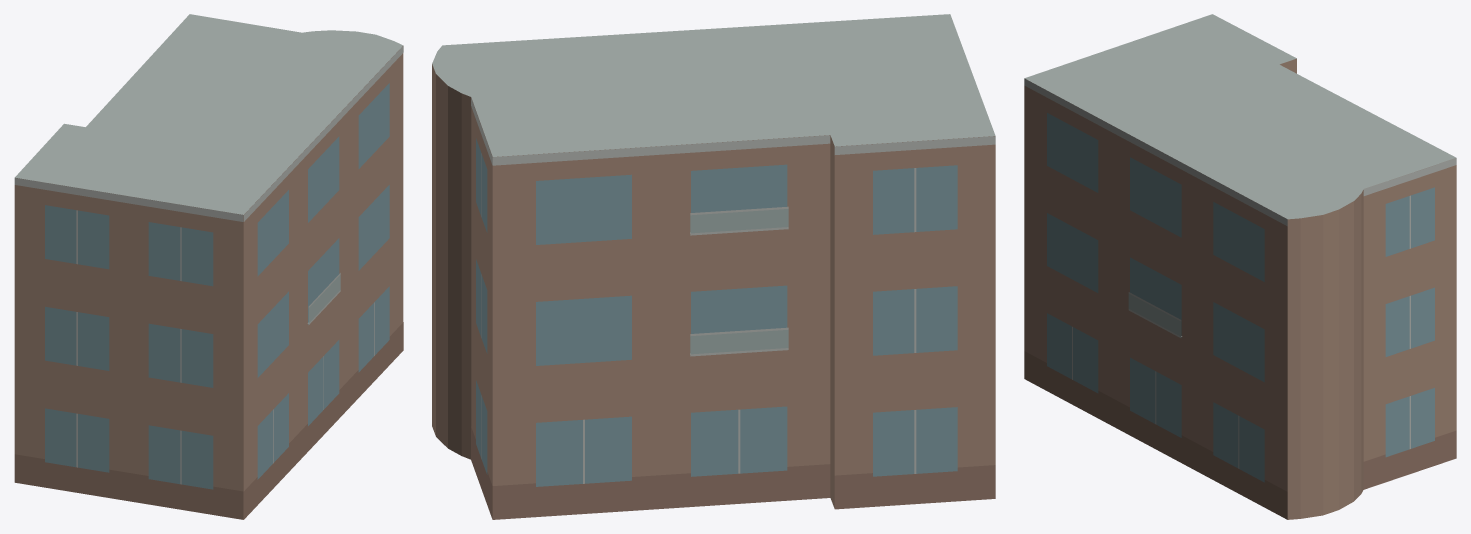
Rendered from survey-upis-32764109.glb.
3 views of the same model, side by side, from view 1: azimuth 30°, elevation 25°; view 2: azimuth 150°, elevation 25°; view 3: azimuth 270°, elevation 25° (orthographic). The views are drawn at different scales.
Visible parts, largest first — view 1: survey-upis-32764109.tmp; view 2: survey-upis-32764109.tmp; view 3: survey-upis-32764109.tmp.
Part boxes in pixels (x1=…): survey-upis-32764109.tmp: x1=14, y1=14, x2=403, y2=519; survey-upis-32764109.tmp: x1=432, y1=14, x2=995, y2=519; survey-upis-32764109.tmp: x1=1024, y1=14, x2=1456, y2=519.
Size of the model in its own units: 15.02 by 10.25 by 13.37.
